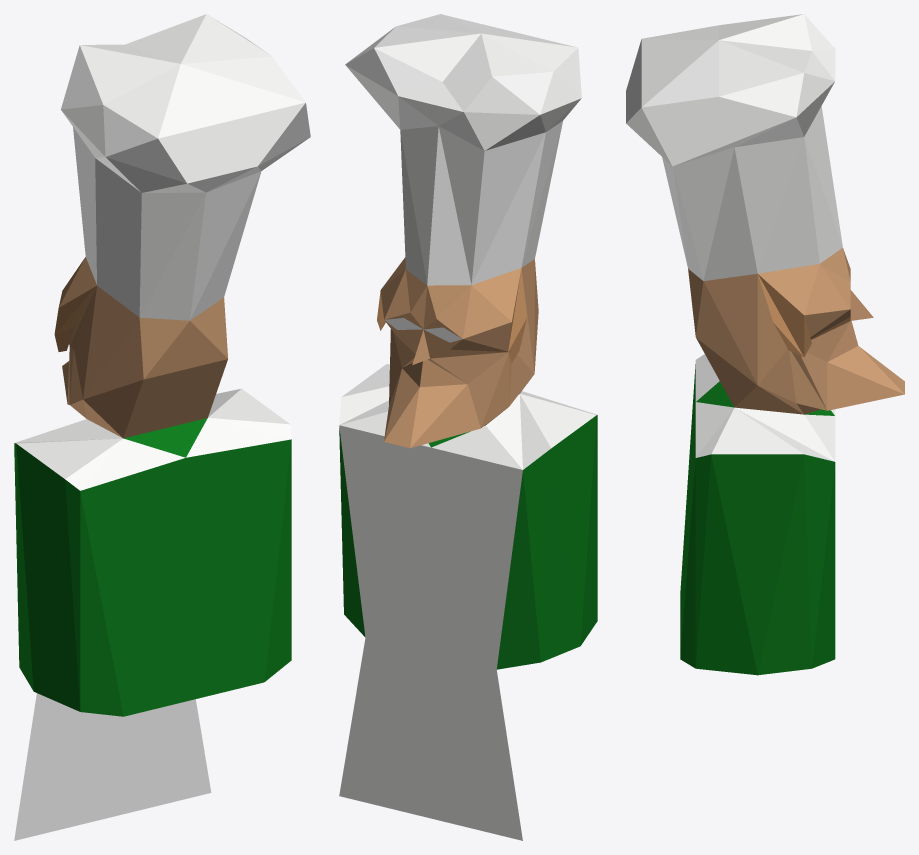
Rendered from npc_world_aluft_gianne_1.obj.
3 views of the same model, side by side, from view 1: azimuth 30°, elevation 25°; view 2: azimuth 150°, elevation 25°; view 3: azimuth 270°, elevation 25° (orthographic). The views are drawn at different scales.
Bounding box in the file's own units: 0.2656 × 0.8438 × 0.2812.
